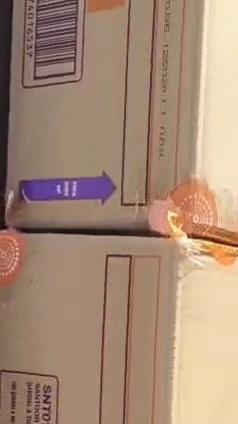box: (0, 231, 237, 423)
